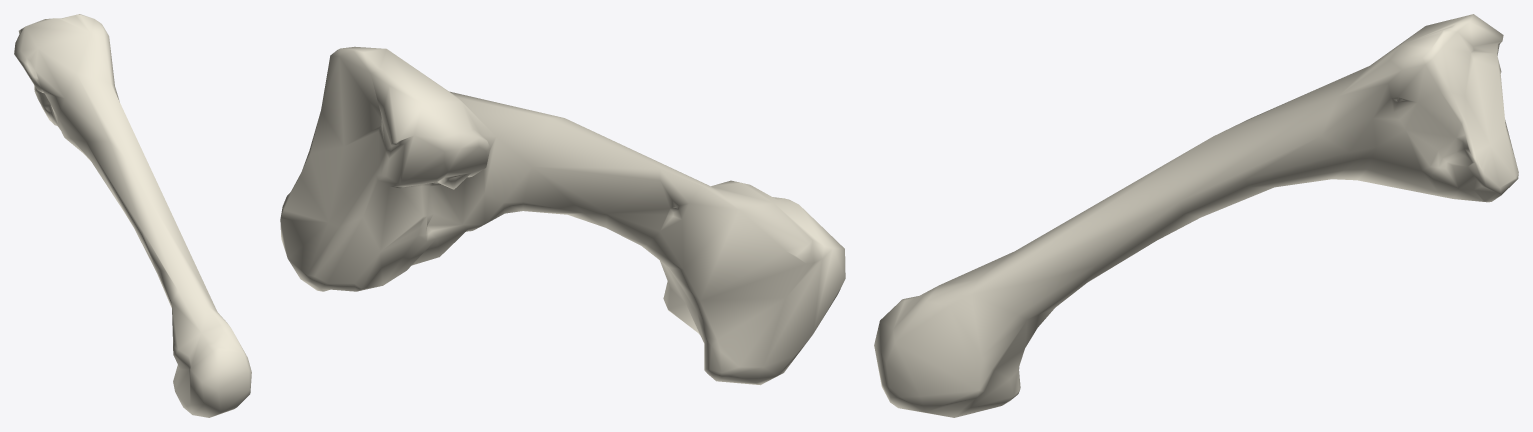
3 renders of one model, left to right at view 1: azimuth 30°, elevation 25°; view 2: azimuth 150°, elevation 25°; view 3: azimuth 270°, elevation 25°, orthographic. The views are drawn at different scales.
Parts seen in each view (by area): view 1: ZA_48e6cf5ecc82e8ed; view 2: ZA_48e6cf5ecc82e8ed; view 3: ZA_48e6cf5ecc82e8ed.
Boxes of the visible parts, x1,y1,x2,y2 form: ZA_48e6cf5ecc82e8ed: (14, 14, 251, 417); ZA_48e6cf5ecc82e8ed: (280, 46, 845, 385); ZA_48e6cf5ecc82e8ed: (874, 14, 1518, 417).
Bounding box in the file's own units: 0.0174 × 0.0499 × 0.0705.
